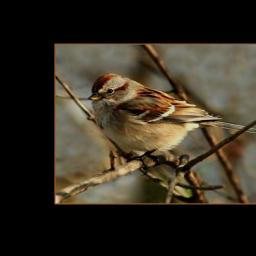Sparrow: (89, 73, 256, 177)
